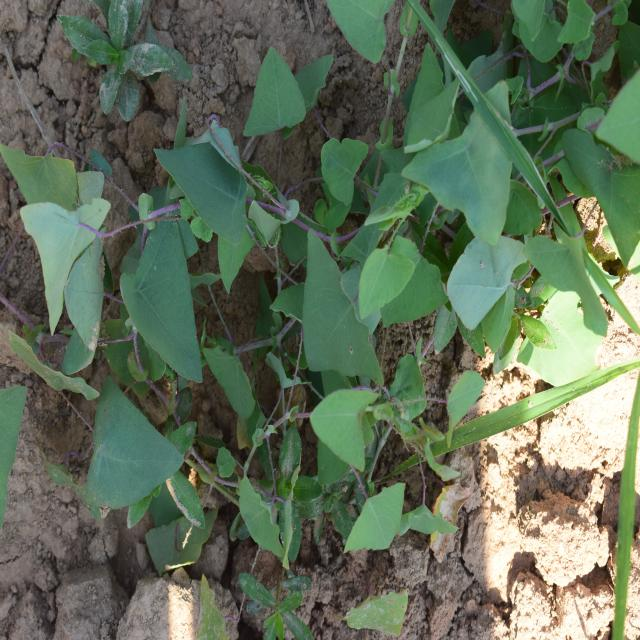Asiatic_Smartweed: (10, 130, 209, 414), (286, 205, 456, 407), (299, 377, 458, 563), (47, 337, 188, 516), (184, 105, 288, 312)
